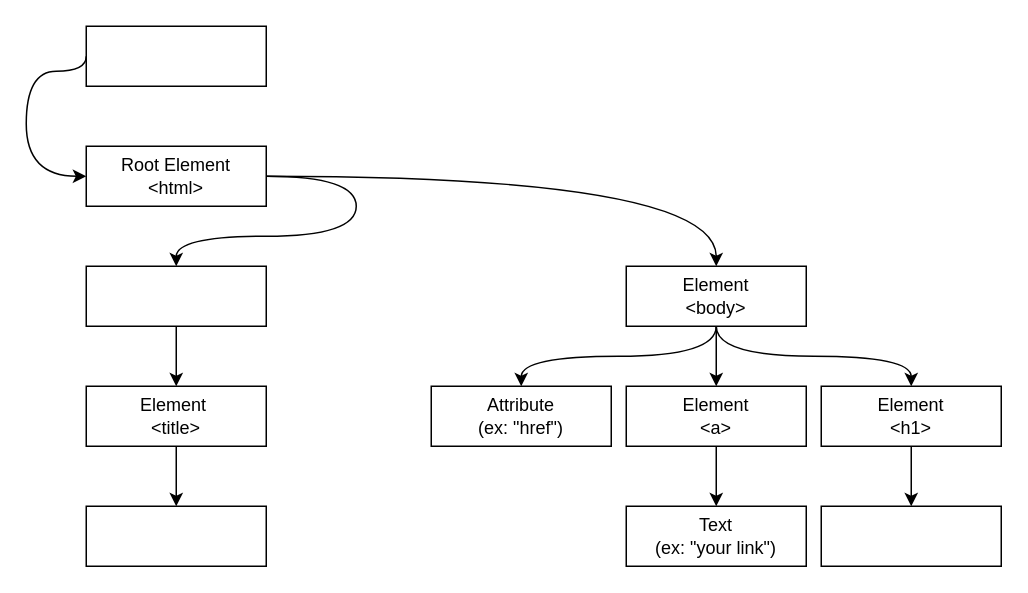
Some shapes in this 1028 by 593 pixel diagram are drawn without their labels. The centre of each missing label's shape, as x and y in pixels:
Document: [175,55]
Element <head>: [175,295]
Text (ex: "your header"): [910,535]
Text (ex: "your title"): [175,535]
